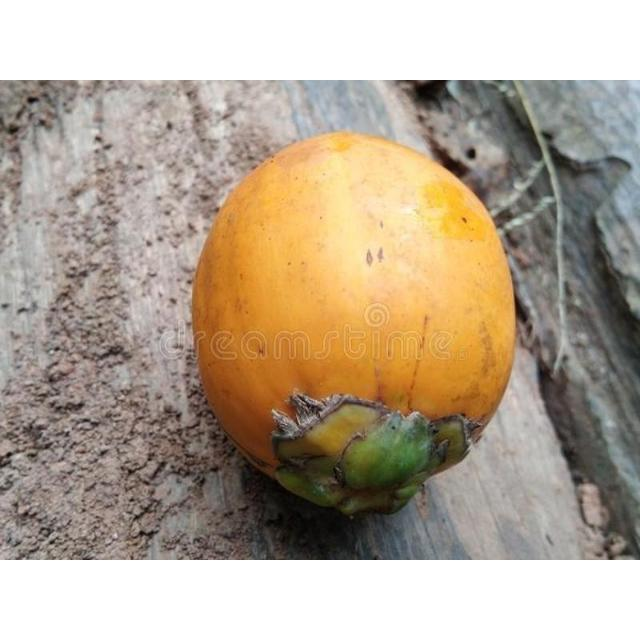good: (190, 132, 517, 520)
